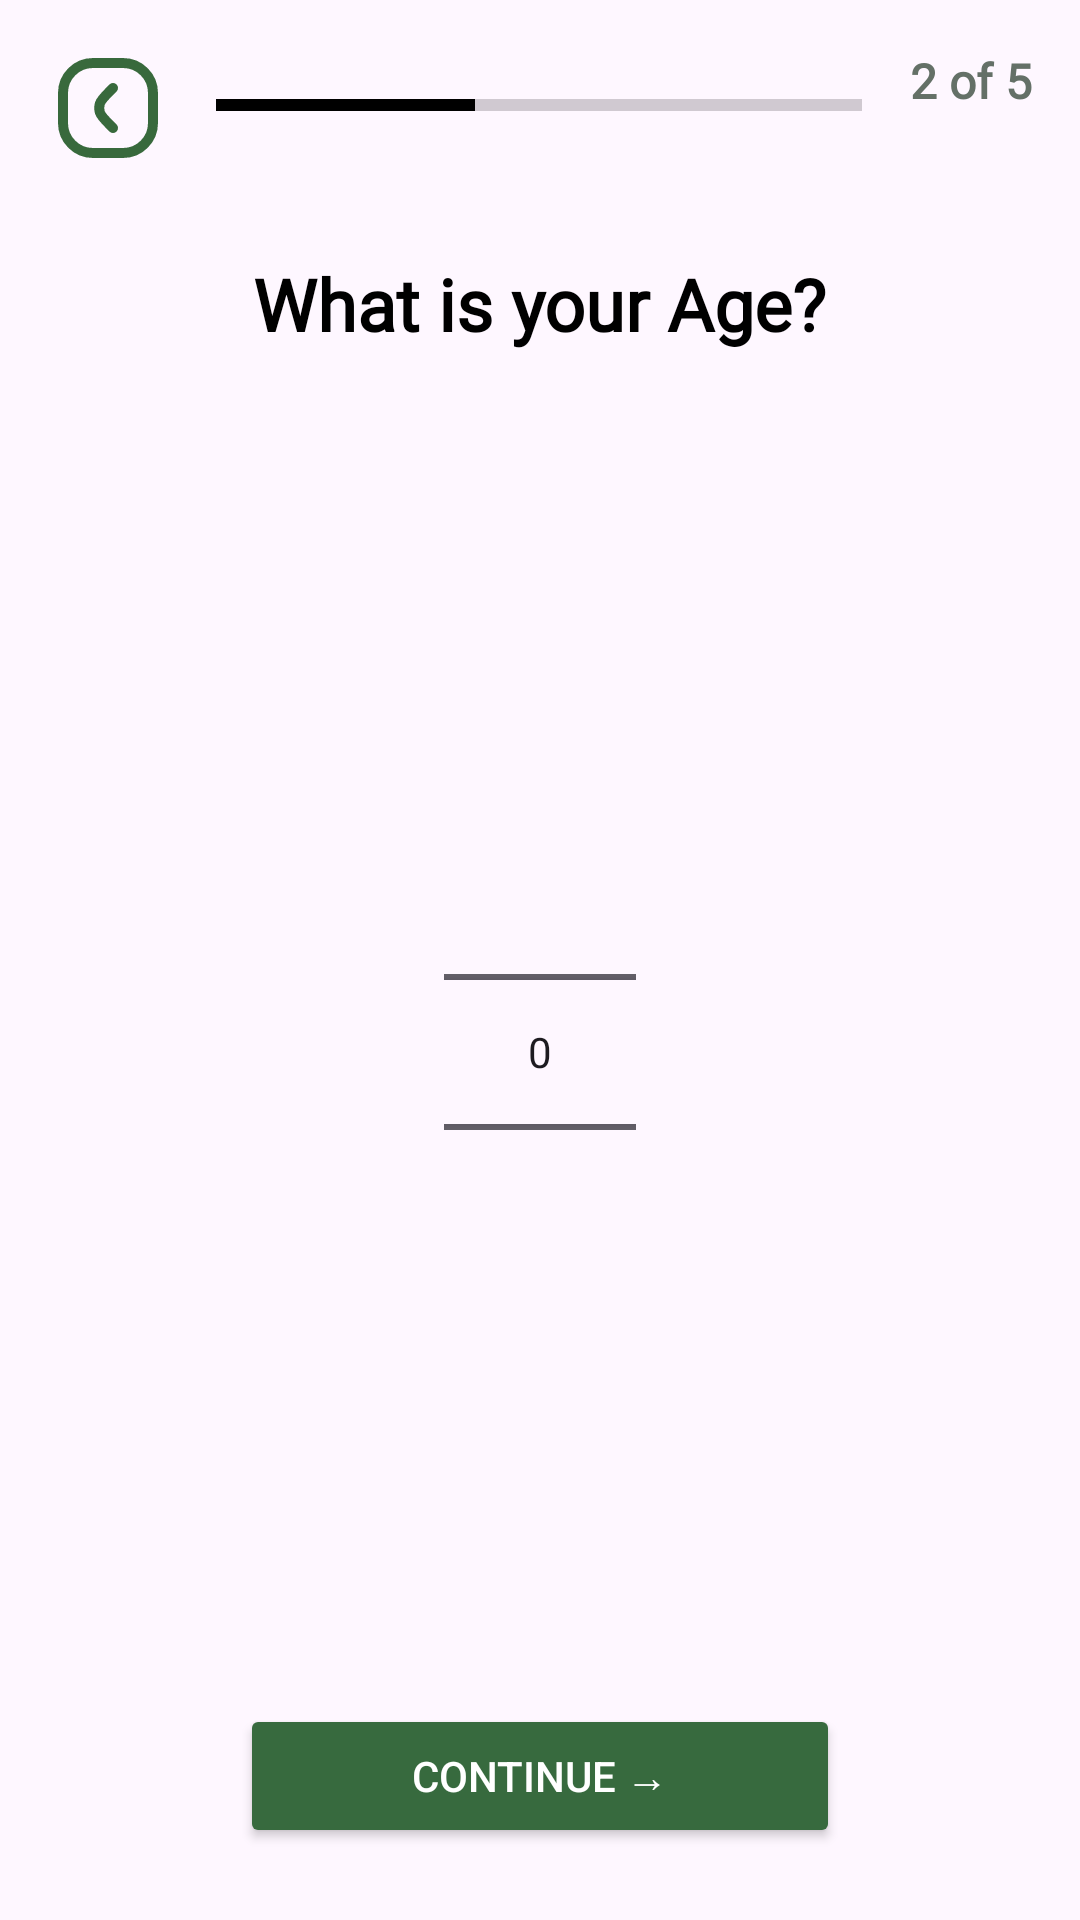

Named icons in this screenshot (1080x1920) and their bounding boxes, (x1=x1, y1=y1, x2=x2, y2=y2):
back: (x1=58, y1=58, x2=158, y2=158)
